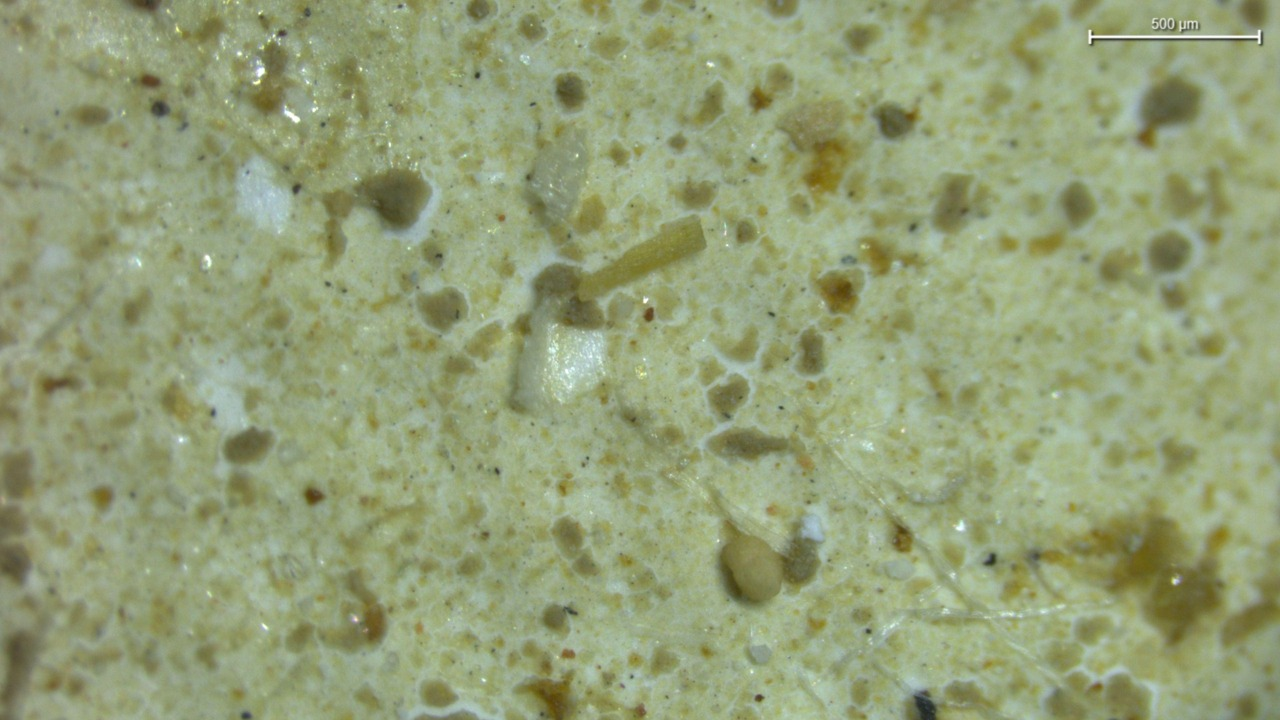microplastic_fragment: (578, 215, 706, 299), (512, 298, 607, 411), (528, 128, 589, 224), (720, 533, 784, 602)
